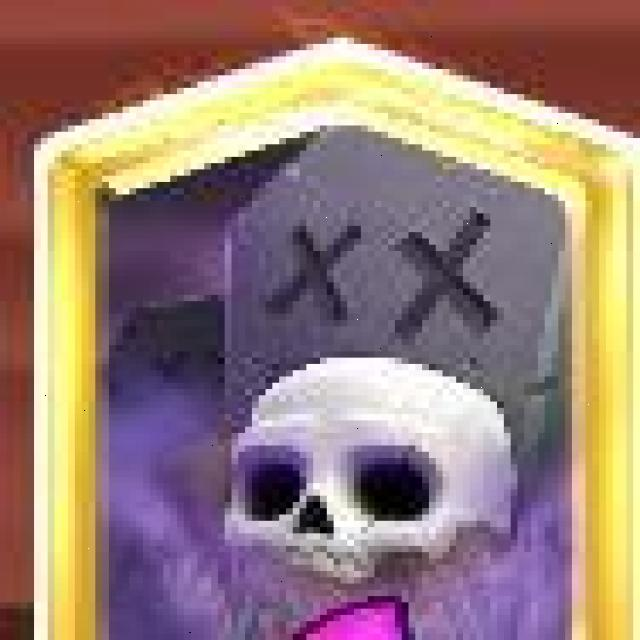Graveyard: (36, 47, 638, 640)
